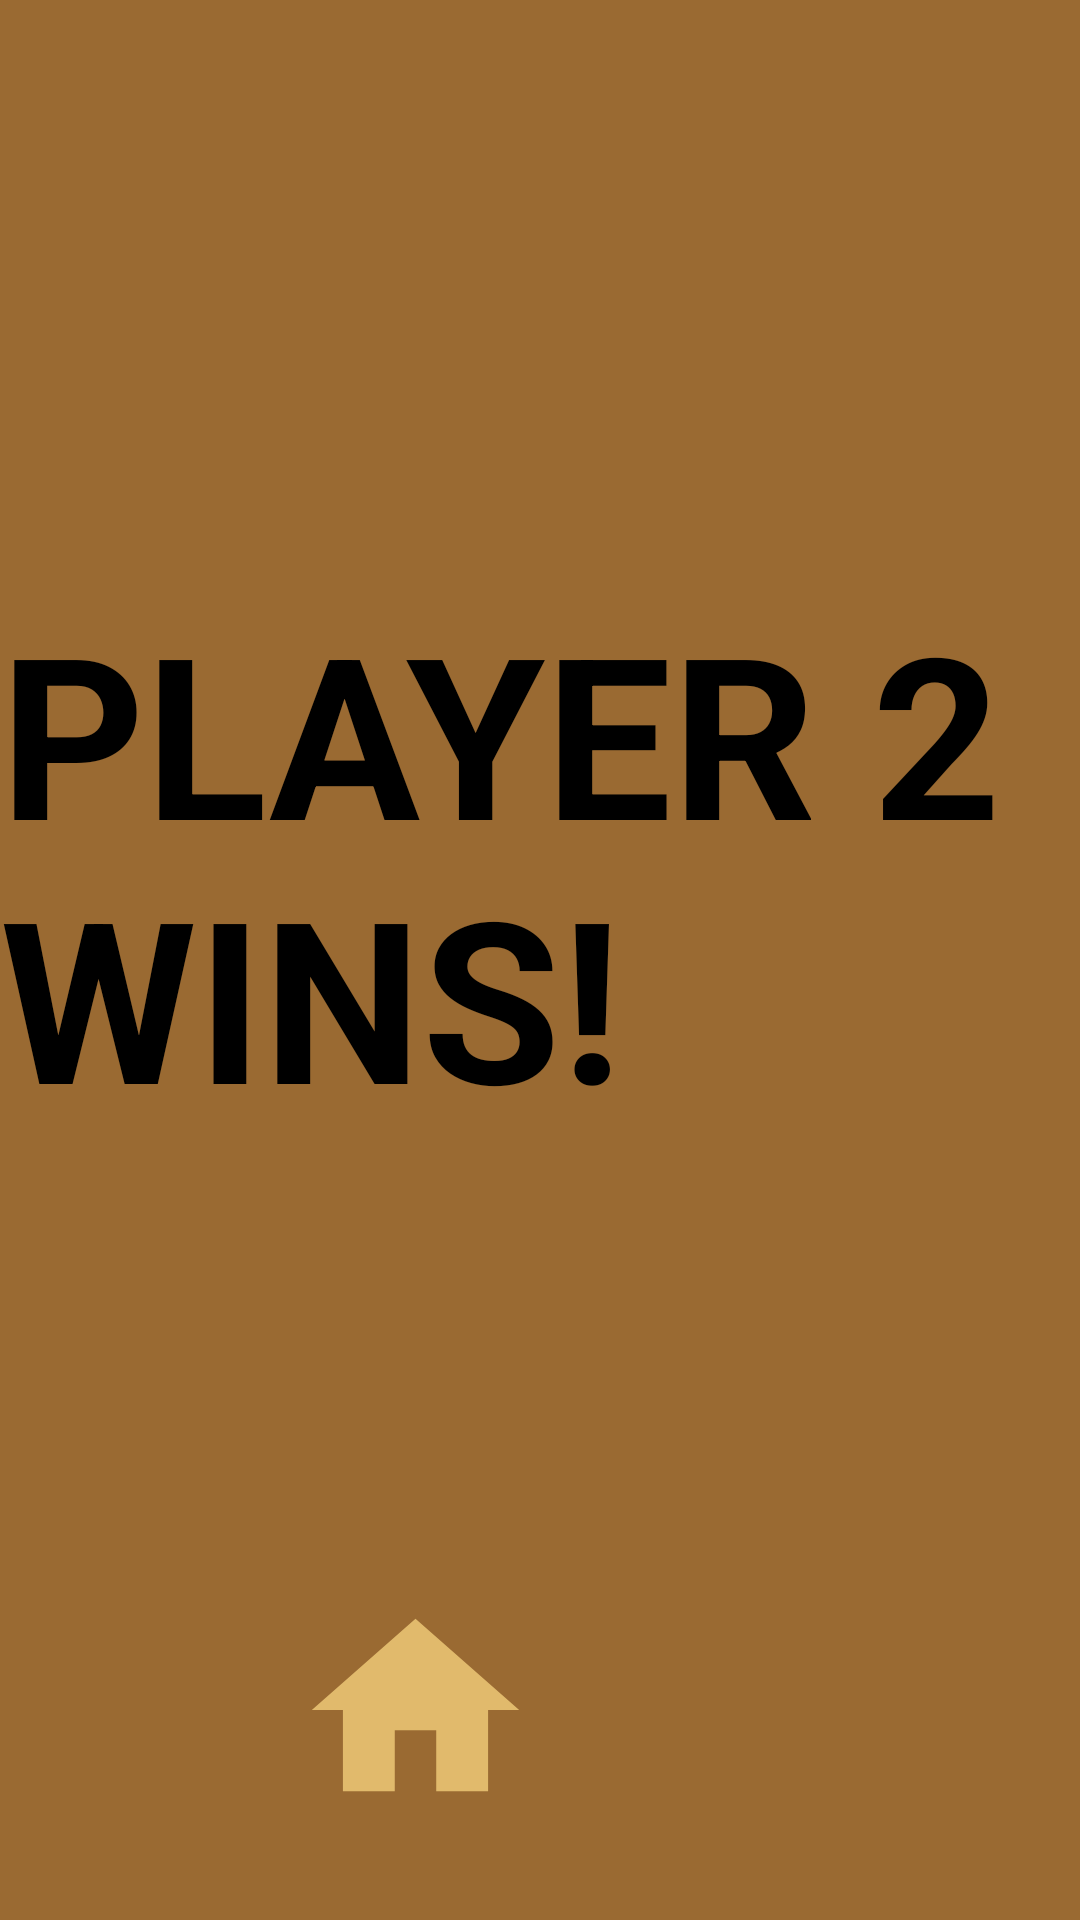

Where icons sit on this 1080w x 1920h app screen, as (x1, y1, x2, y2):
home: (312, 1619, 519, 1791)
